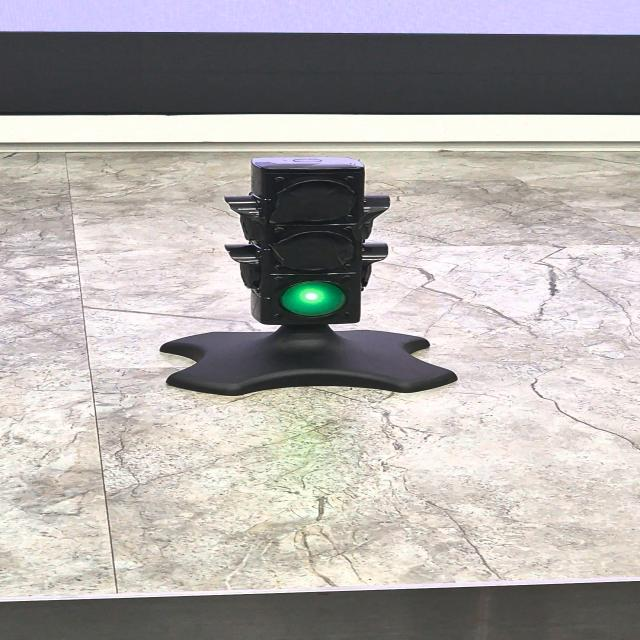green_light: (281, 282, 346, 316)
